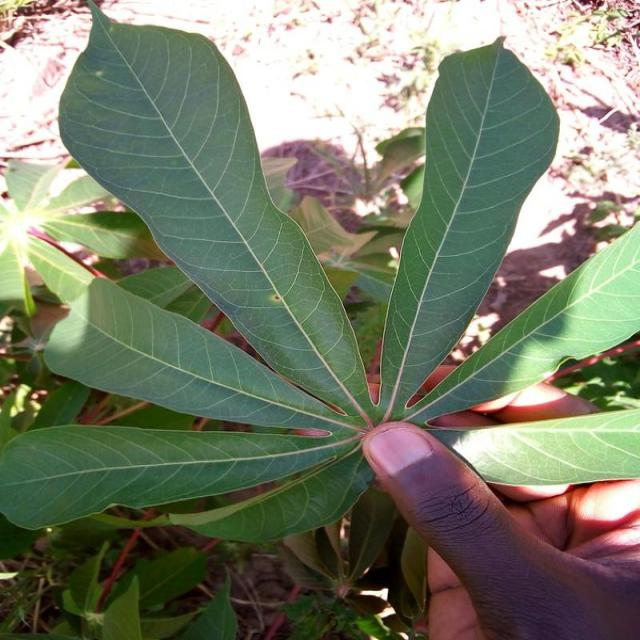cassava leaf: (2, 7, 640, 550), (58, 0, 376, 425), (378, 34, 562, 420)
